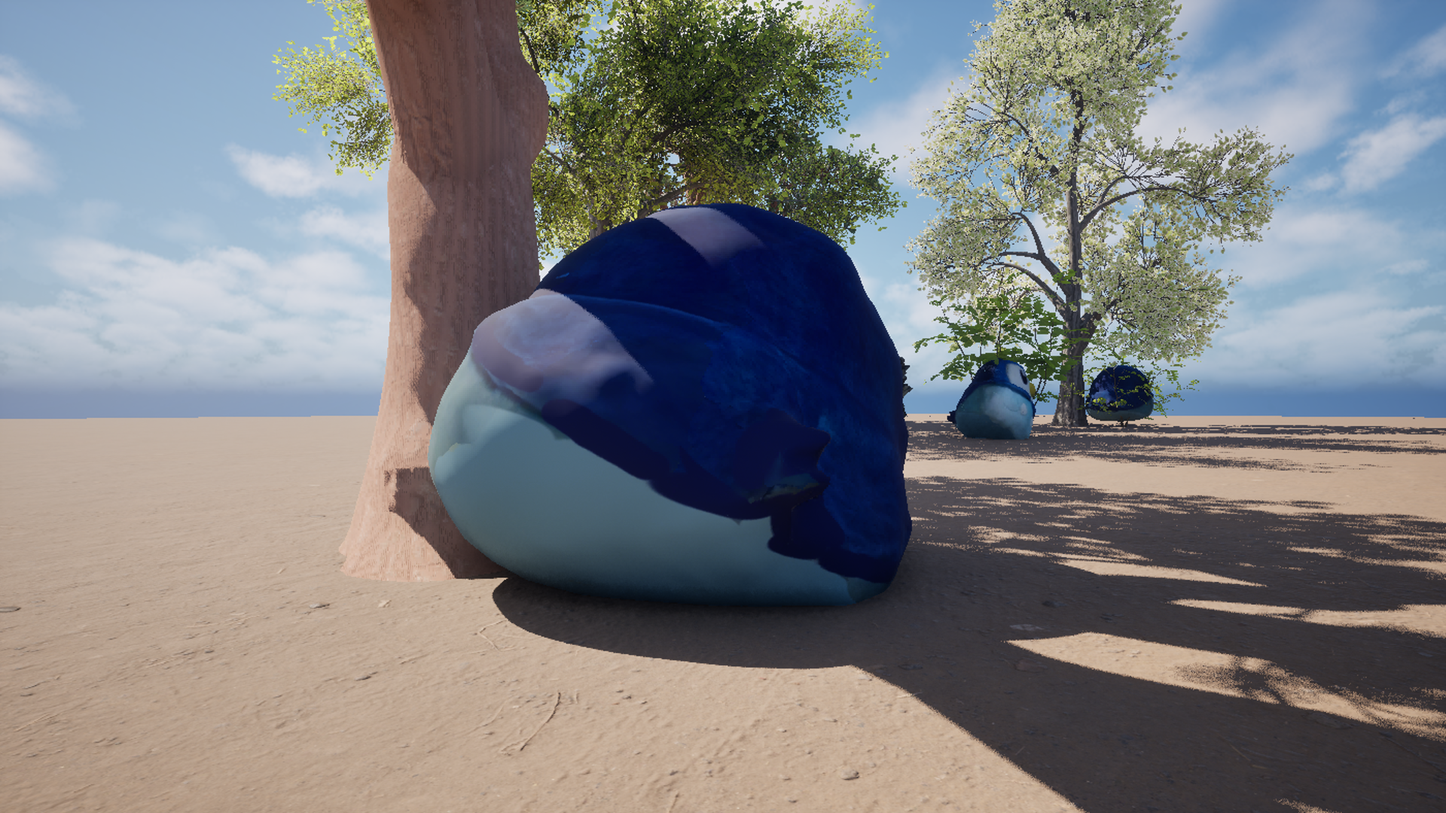Piplup: (171, 0, 1160, 813)
